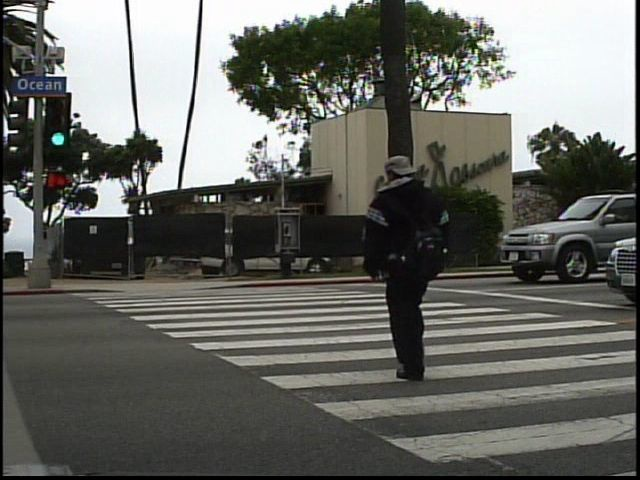person: (358, 140, 462, 389)
